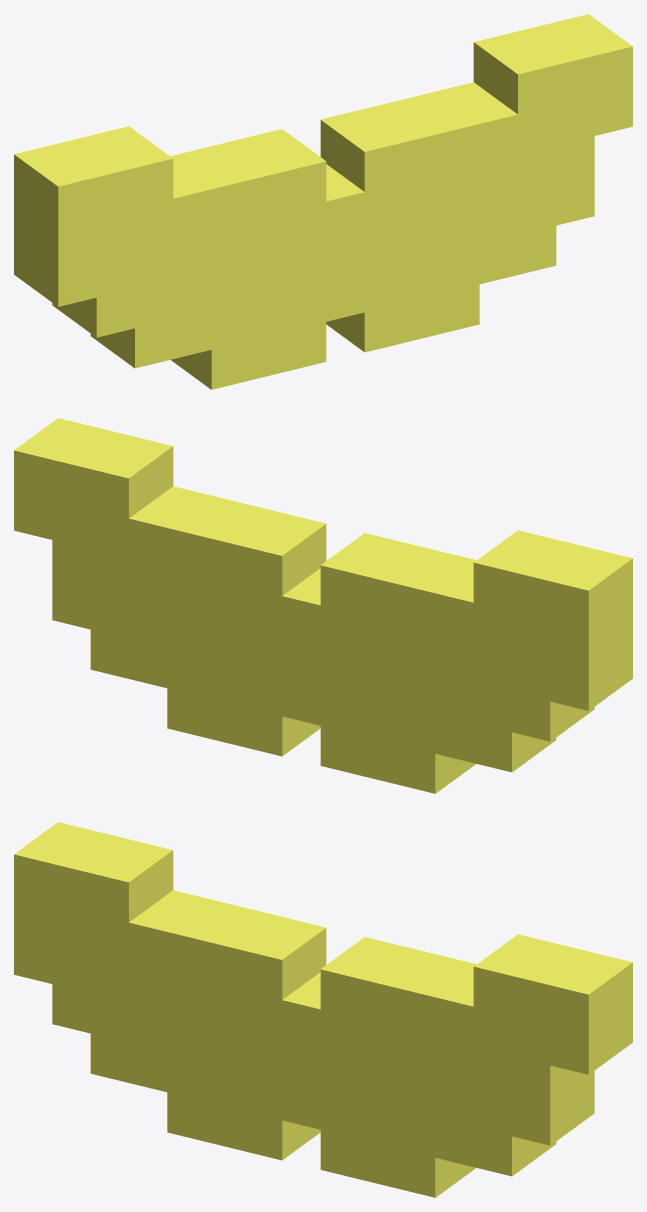
Rendered from pacmand3.fbx.
3 views of the same model, one above another, from view 1: azimuth 30°, elevation 25°; view 2: azimuth 150°, elevation 25°; view 3: azimuth 330°, elevation 25° (orthographic).
Visible parts, largest first — view 1: pacmand3; view 2: pacmand3; view 3: pacmand3.
Part boxes in pixels (box(x1,y1,x2,y2)): pacmand3: box(14, 14, 632, 389); pacmand3: box(14, 418, 632, 793); pacmand3: box(14, 822, 632, 1197).
Size of the model in its own units: 150 by 60 by 20.
